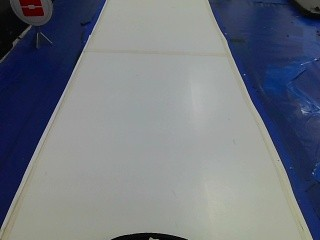company: (10, 0, 52, 28)
